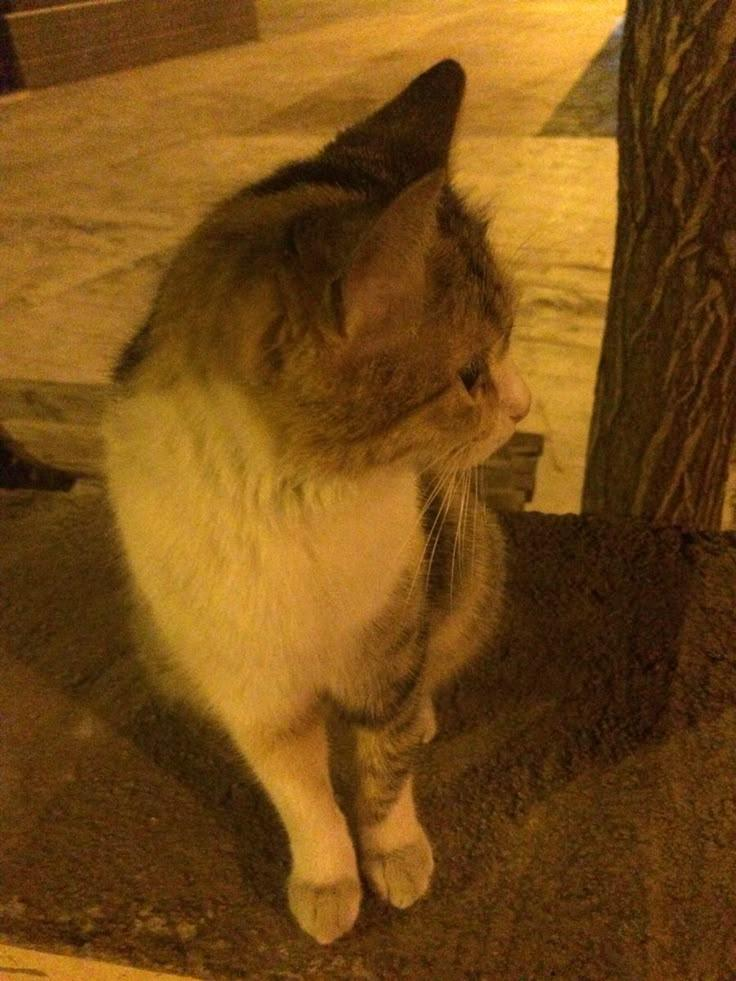kedo: (70, 54, 542, 940)
